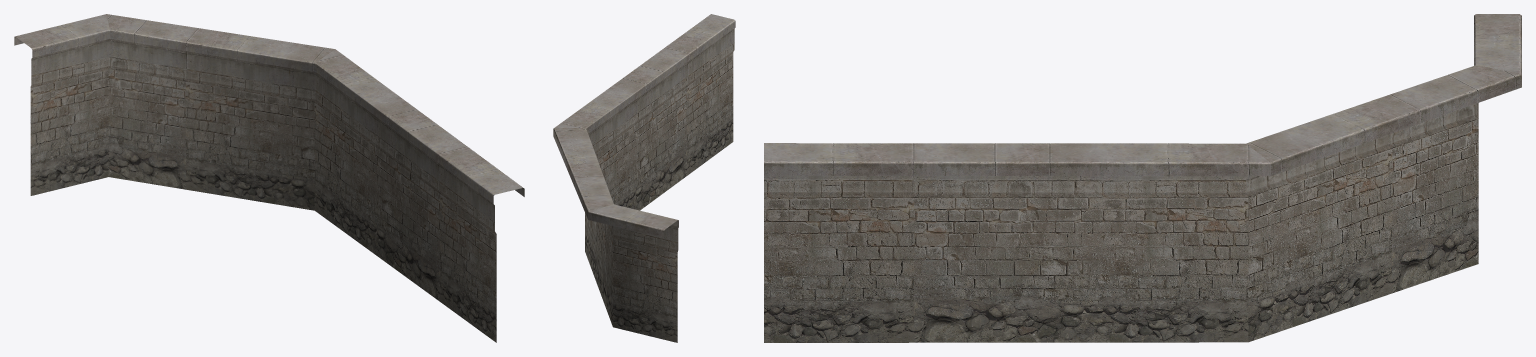
File: Wall8.fbx
The picture shows the model from 3 angles, left to right: view 1: azimuth 30°, elevation 25°; view 2: azimuth 150°, elevation 25°; view 3: azimuth 270°, elevation 25°; orthographic projection. The views are drawn at different scales.
Visible parts, largest first — view 1: LV_Campagna_Dock_DockWall06_SM_SVR; view 2: LV_Campagna_Dock_DockWall06_SM_SVR; view 3: LV_Campagna_Dock_DockWall06_SM_SVR.
Part boxes in pixels (<box>): LV_Campagna_Dock_DockWall06_SM_SVR: <box>14,14,524,342</box>; LV_Campagna_Dock_DockWall06_SM_SVR: <box>553,14,735,342</box>; LV_Campagna_Dock_DockWall06_SM_SVR: <box>764,14,1521,342</box>.
Size of the model in its own units: 3.09 by 1.92 by 6.63.
Materials: 1 (1 with a texture image).
